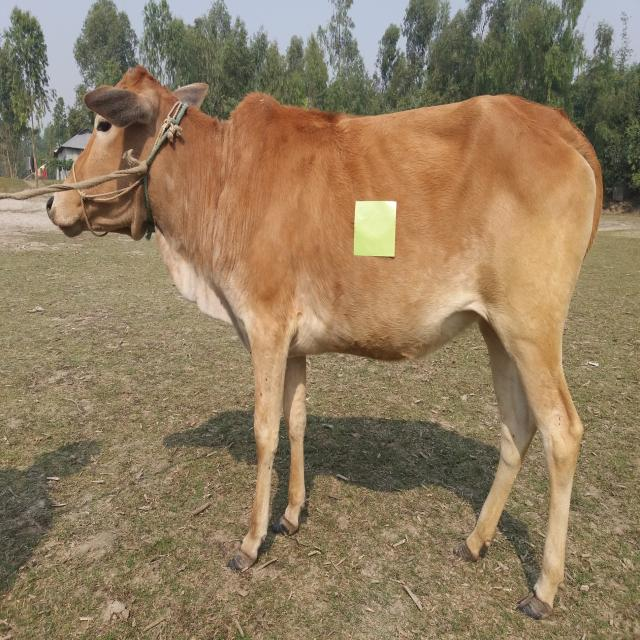badan_sapi: (229, 88, 600, 368)
sapi: (36, 58, 604, 622)
